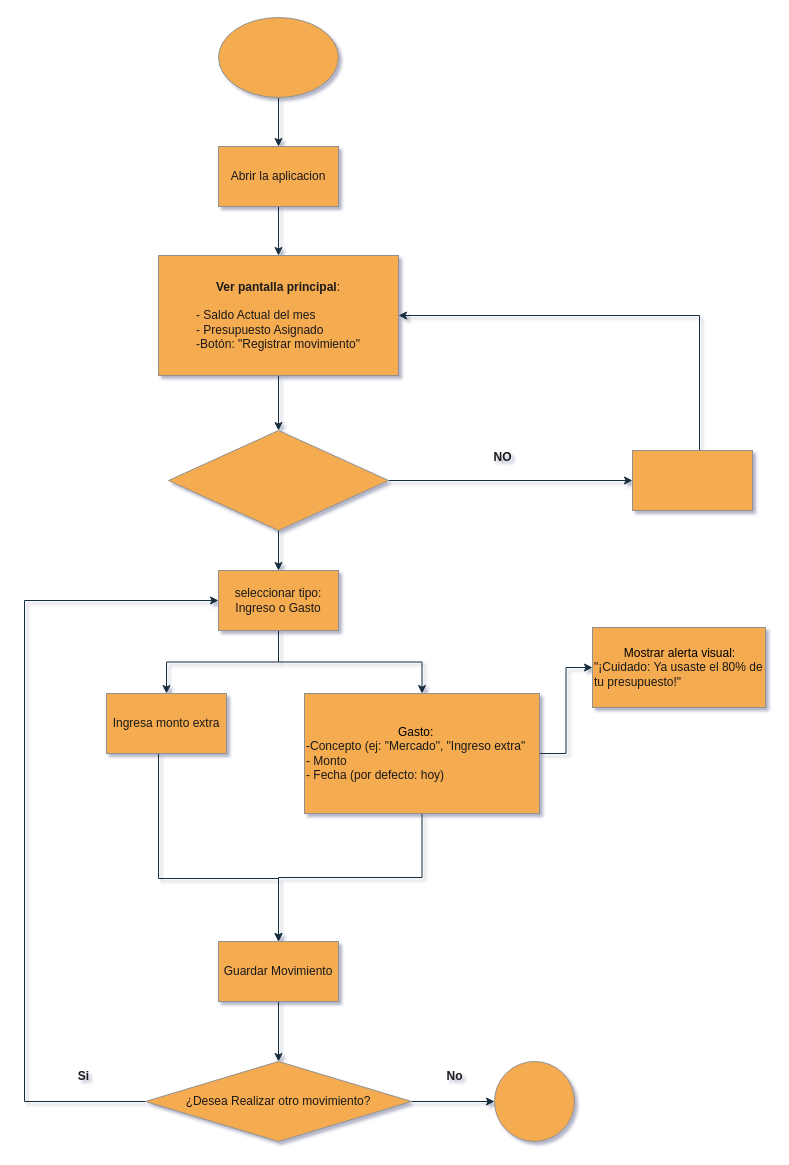
This 789x1165 diagram has some shape labels left out. The shapes that lost their labels are listed below. From the top down, each one's centre as x and y in pixels, then its label:
At point (278, 57): "Inicio".
At point (278, 480): "¿Registrar Movimiento?".
At point (692, 480): "Volver al menu principal".
At point (534, 1101): "Fin".
